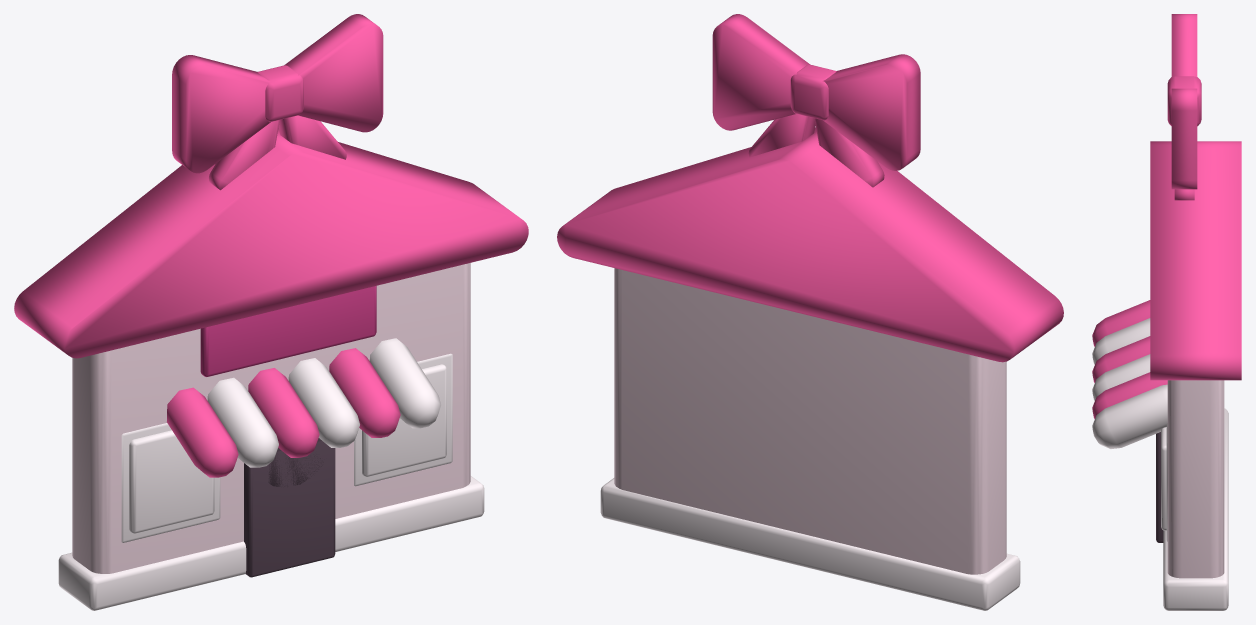
File: facade_bowtique.obj
The picture shows the model from 3 angles, left to right: view 1: azimuth 30°, elevation 25°; view 2: azimuth 150°, elevation 25°; view 3: azimuth 270°, elevation 25°; orthographic projection. The views are drawn at different scales.
Visible parts, largest first — view 1: Roof, Wall, Topper, Trim, AwningA, AwningB, Windows, Door, Sign, Frames; view 2: Wall, Roof, Topper, Trim; view 3: Roof, Wall, AwningB, Topper, AwningA, Trim, Windows, Door, Frames.
Boxes of the visible parts, x1,y1,x2,y2 form: Roof: (14, 128, 528, 358); Wall: (72, 263, 470, 573); Topper: (172, 14, 383, 190); Trim: (58, 476, 484, 610); AwningA: (167, 348, 400, 477); AwningB: (207, 338, 440, 467); Windows: (129, 364, 446, 533); Door: (244, 438, 335, 577); Sign: (200, 286, 376, 376); Frames: (121, 353, 452, 542); Wall: (614, 268, 1006, 574); Roof: (557, 127, 1063, 362); Topper: (712, 14, 920, 187); Trim: (600, 478, 1020, 610); Roof: (1150, 141, 1241, 380); Wall: (1167, 380, 1224, 578); AwningB: (1092, 318, 1167, 448); Topper: (1167, 14, 1201, 200); AwningA: (1092, 300, 1167, 418); Trim: (1163, 408, 1228, 610); Windows: (1161, 427, 1166, 530); Door: (1156, 432, 1163, 542); Frames: (1166, 423, 1167, 541).
Bounding box in the file's own units: 17.2 × 18.3 × 5.24.
